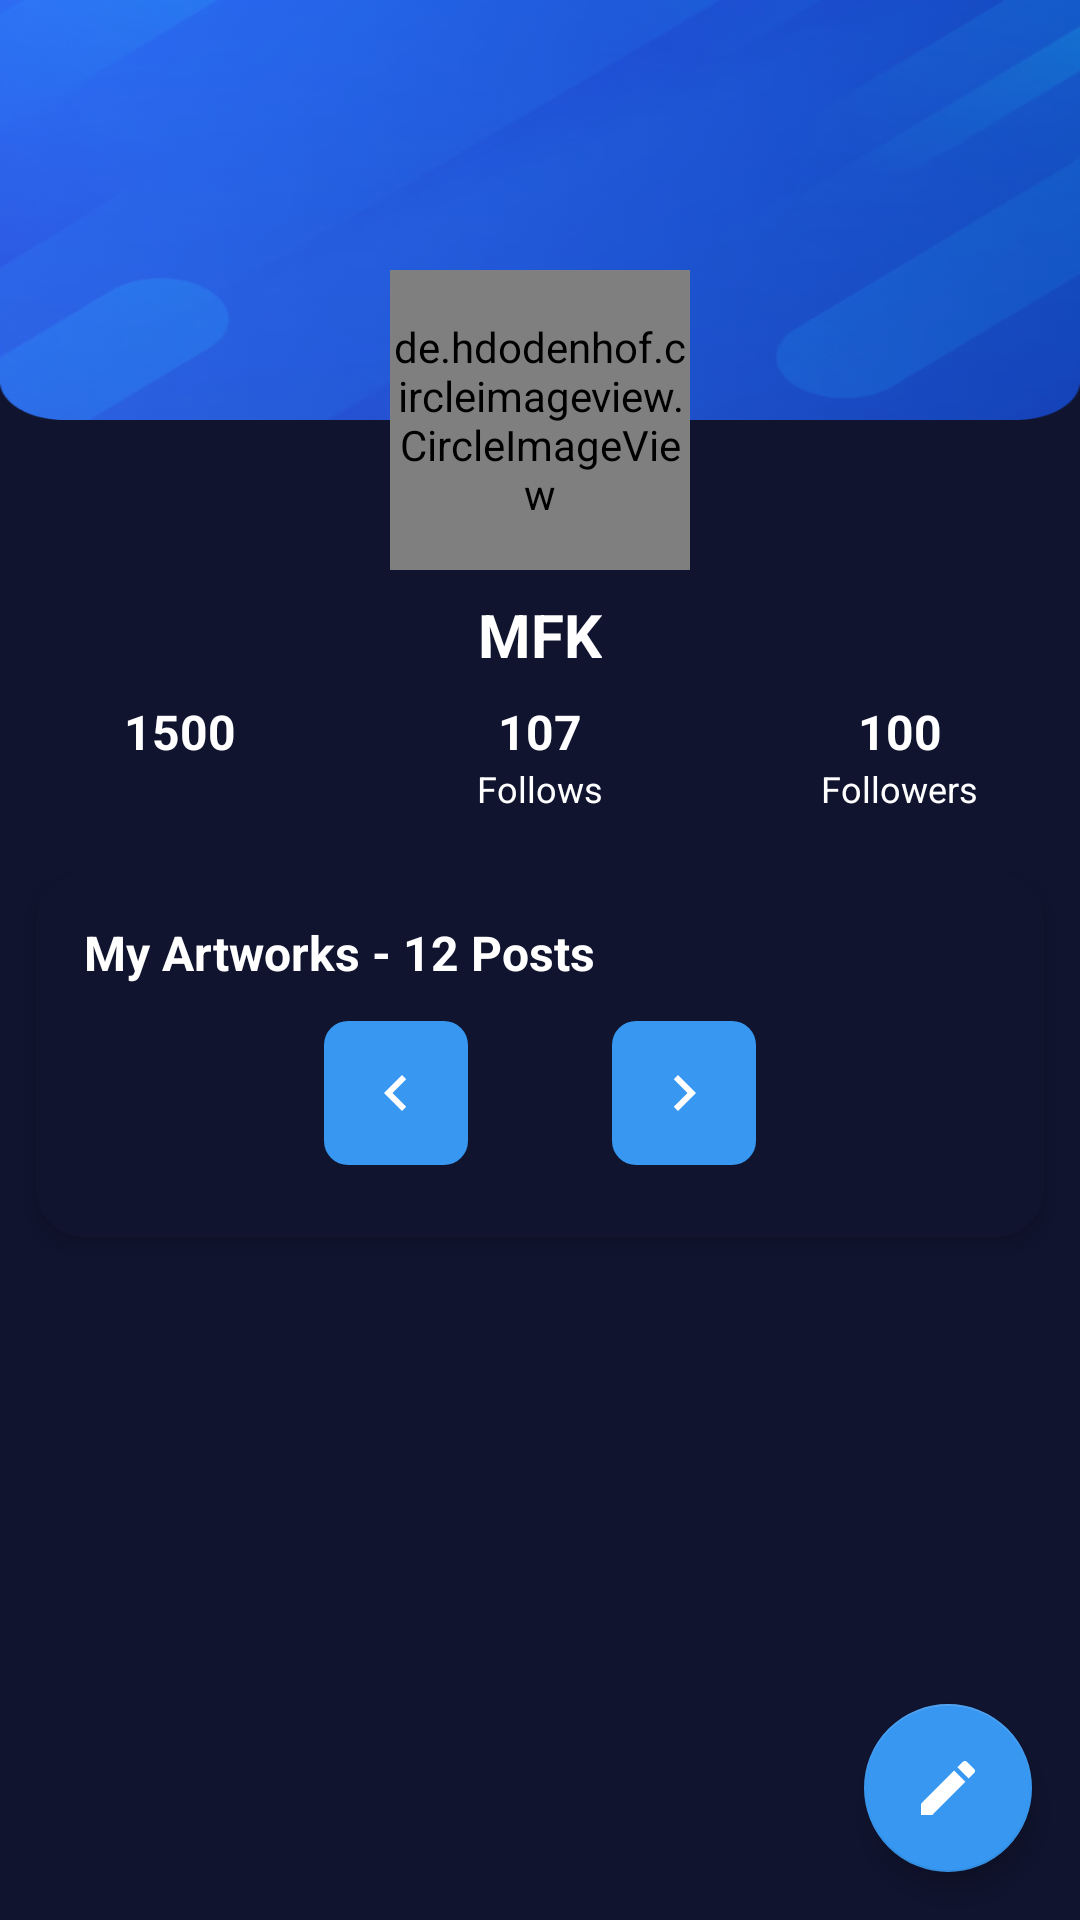

Where icons sit on this 1080x1920 app screen, as [x1, y1, x2, y2]:
chevron left: [324, 1021, 468, 1165]
chevron right: [612, 1021, 756, 1165]
edit: [864, 1704, 1032, 1872]
